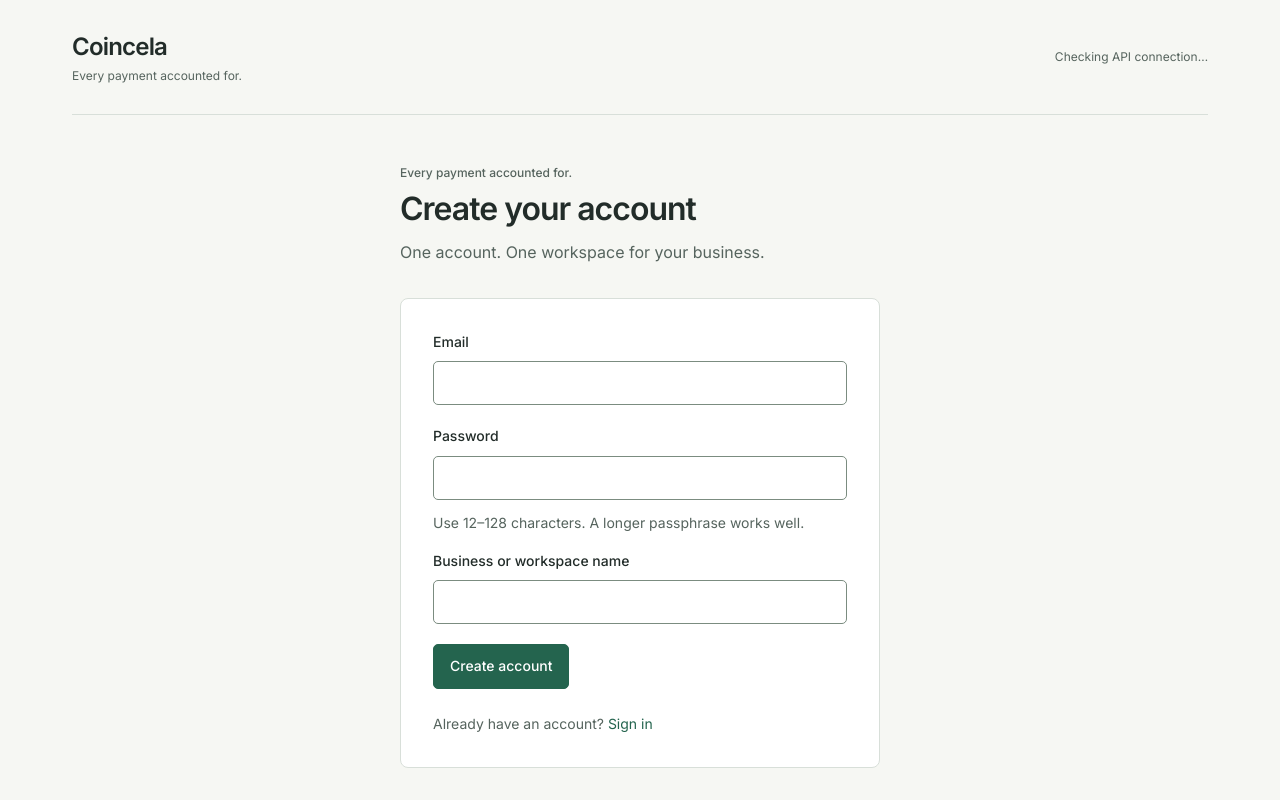
registers through the API, stores only refresh token metadata and renders private settings
In the field labelled "Email": (640,383) [433,361,847,405], type "owner@example.test"
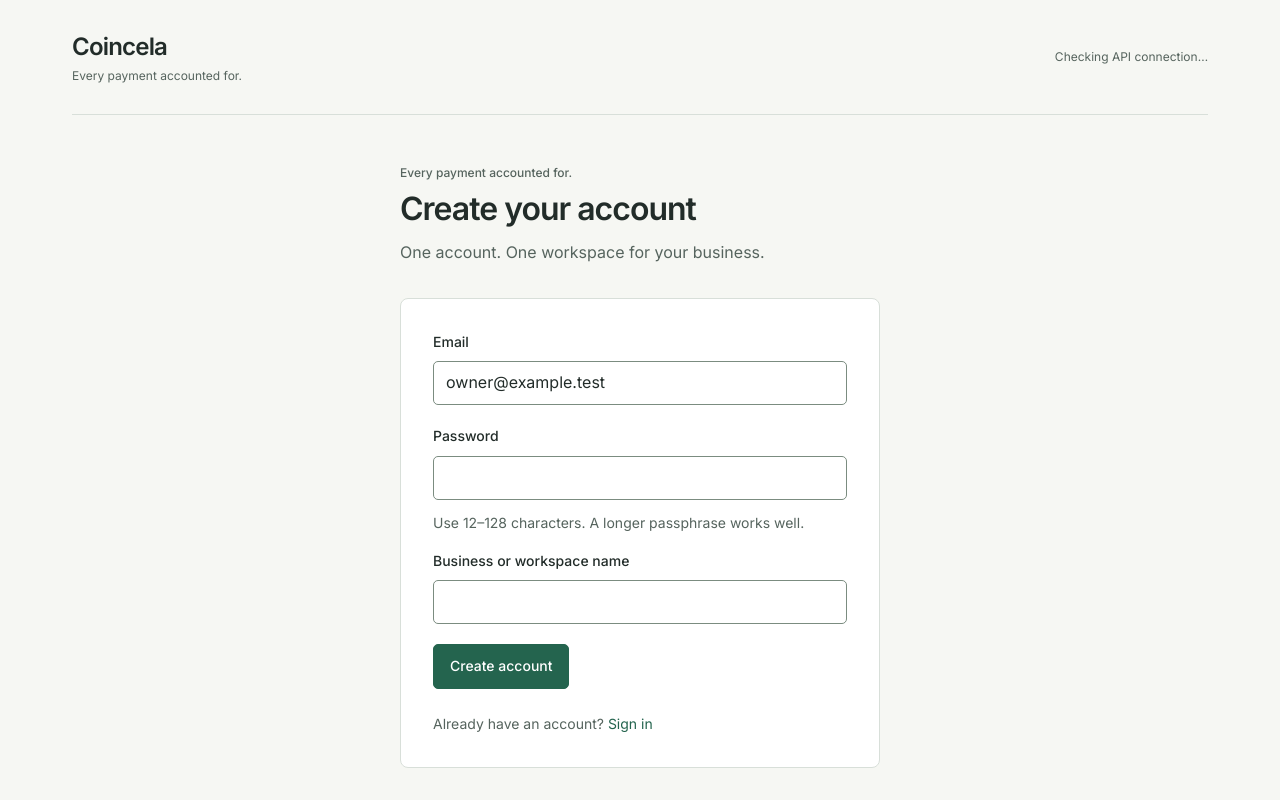
In the password field labelled "Password": (640,478) [433,456,847,500], type "A long passphrase!"
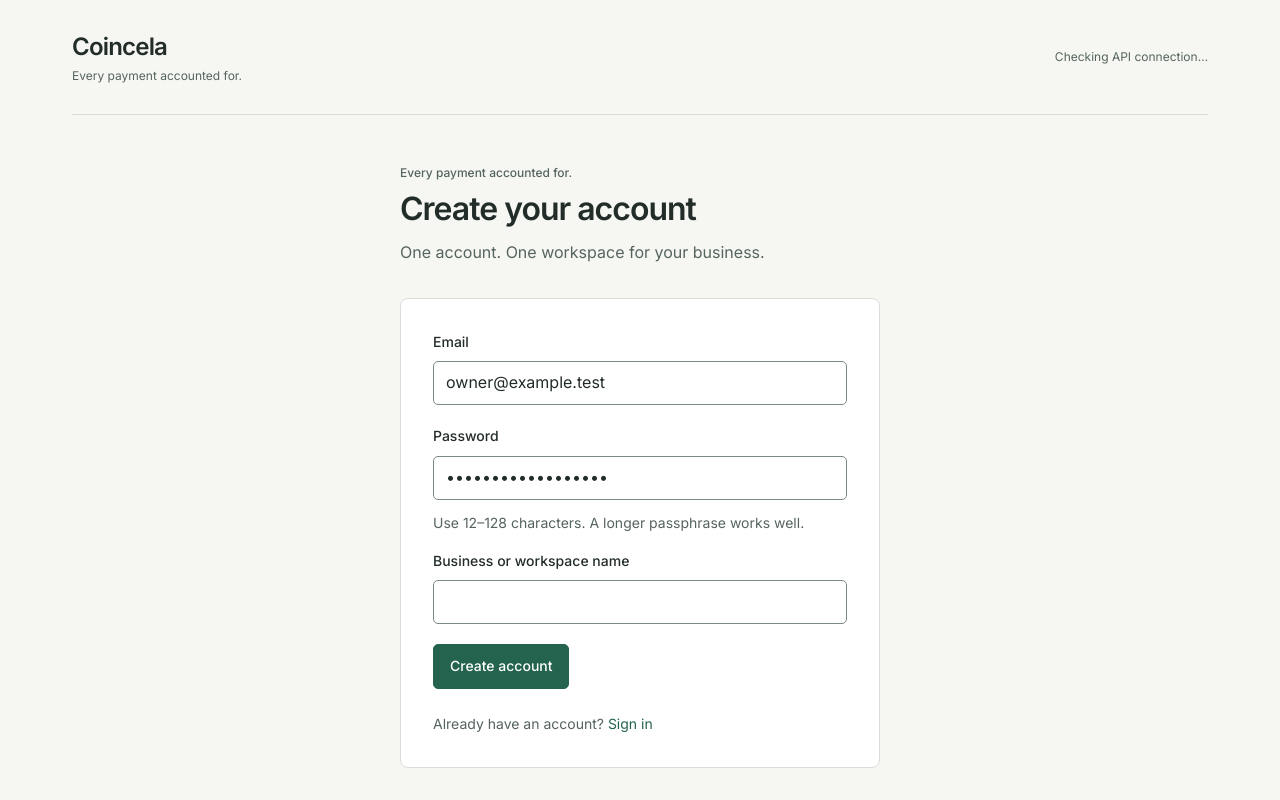
In the field labelled "Business or workspace name": (640,602) [433,580,847,624], type "My studio"
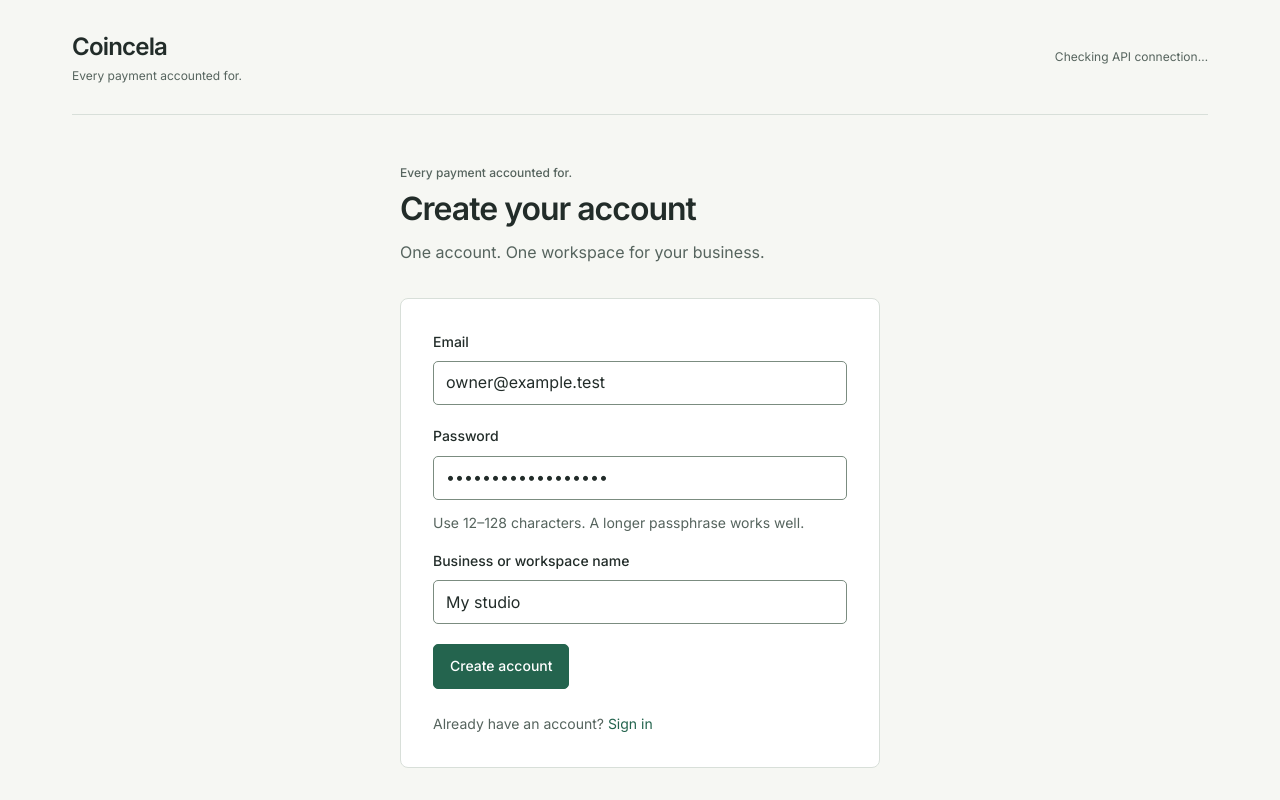
Click the button "Create account": (501,666) [433,644,570,689]
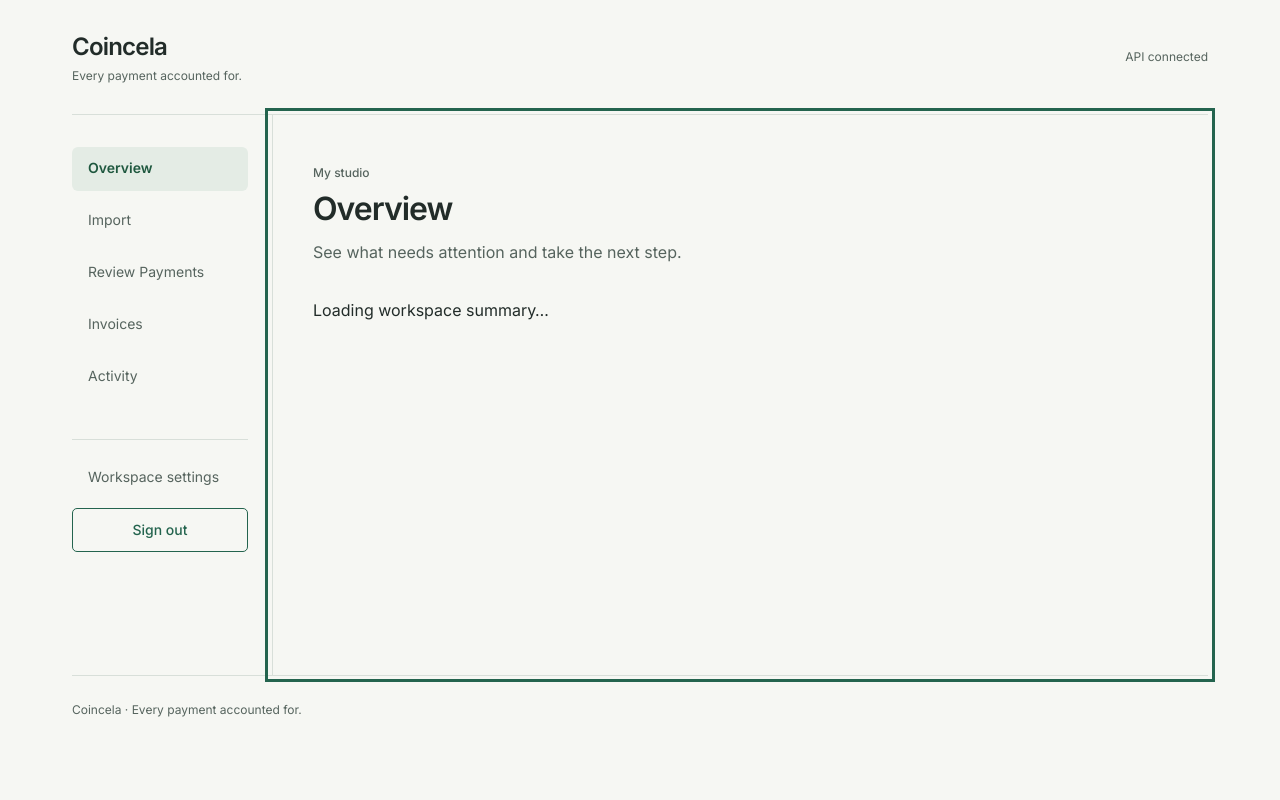
Now the heading "Overview" is shown, box [313,189,452,228]
Click the link "Workspace settings": (154,476) [88,468,219,485]
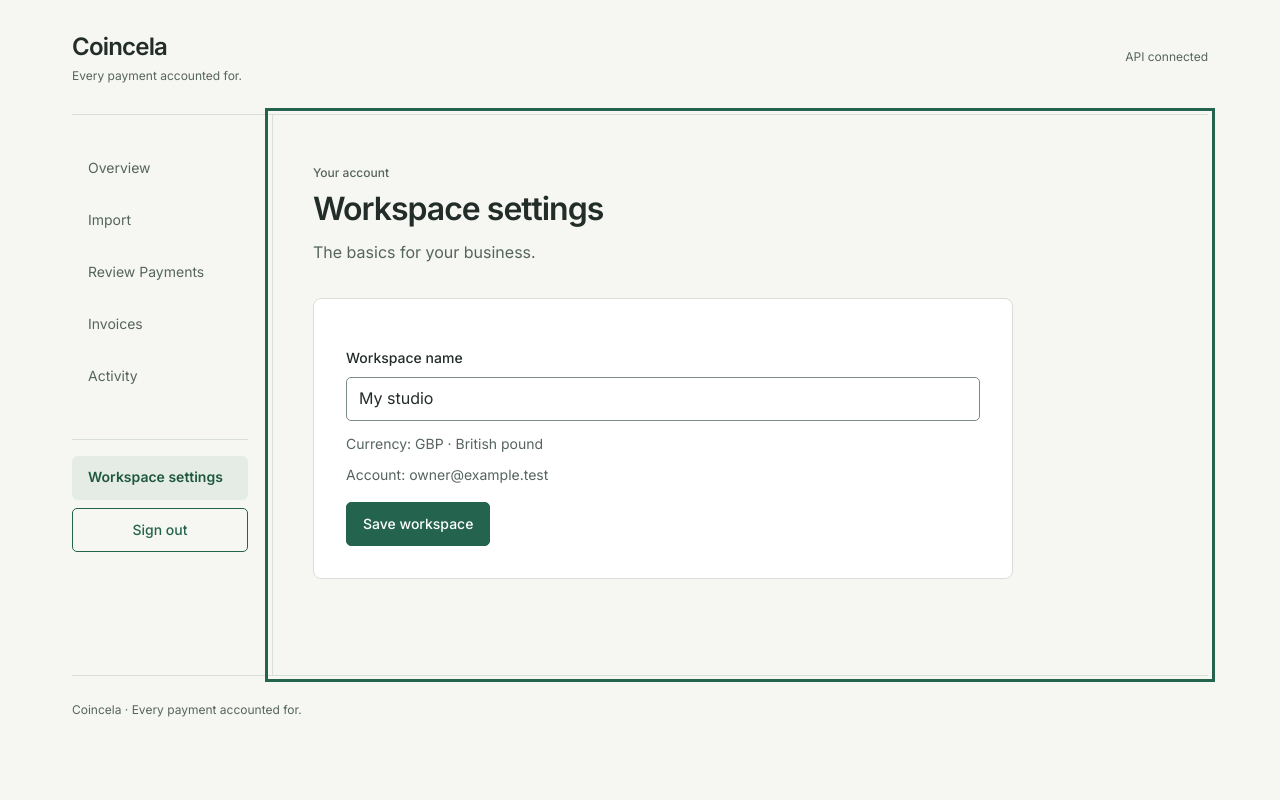
Now the field labelled "Workspace name" holds "My studio", box [346,377,980,421]
